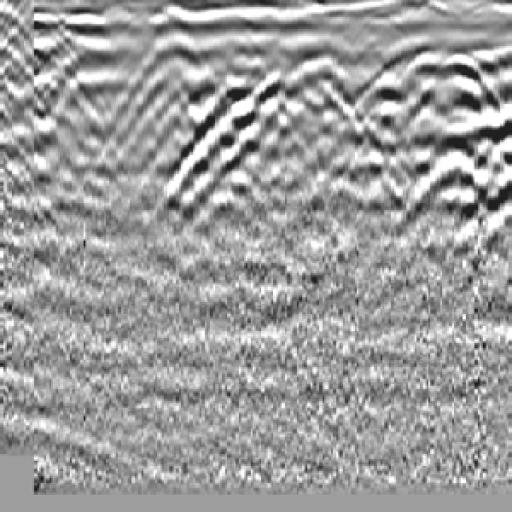non-metallic: (156, 59, 379, 232), (339, 36, 512, 227)
